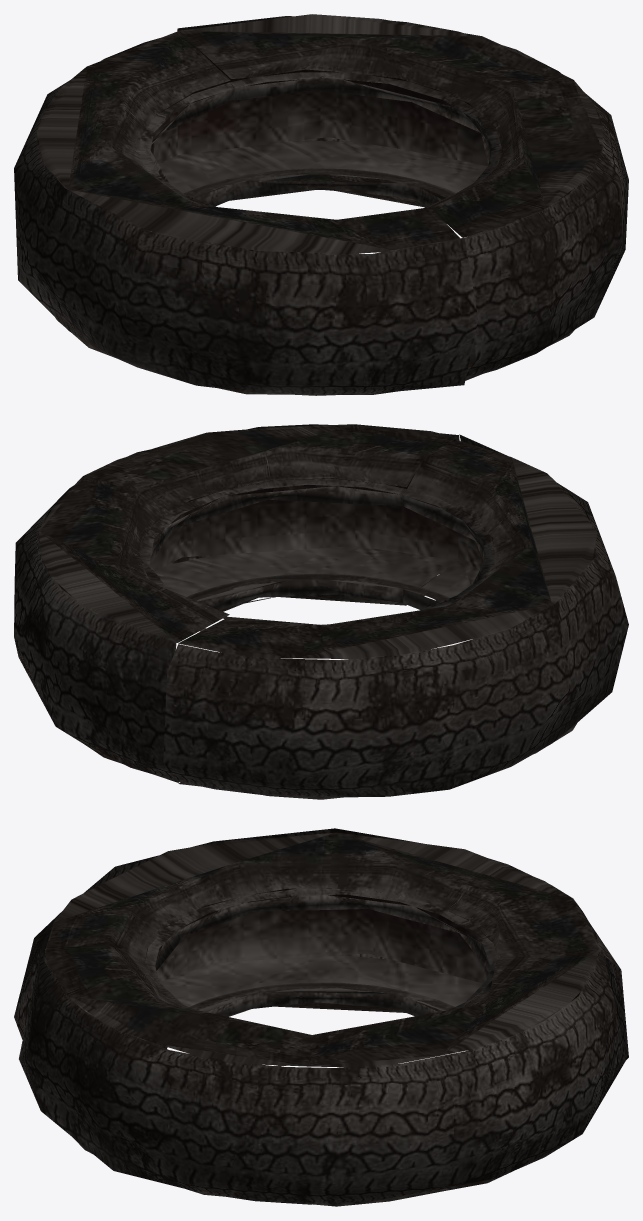
Rendered from tyre.fbx.
3 renders of one model, top to bottom at view 1: azimuth 30°, elevation 25°; view 2: azimuth 150°, elevation 25°; view 3: azimuth 270°, elevation 25°, orthographic. The views are drawn at different scales.
Parts seen in each view (by area): view 1: old_tyre; view 2: old_tyre; view 3: old_tyre.
Part boxes in pixels (left/top/right/bottom): old_tyre: left=14, top=14, right=628, bottom=395; old_tyre: left=14, top=424, right=628, bottom=799; old_tyre: left=14, top=828, right=628, bottom=1206.
Size of the model in its own units: 0.6042 by 0.1693 by 0.6079.
1 material, 1 textured.
